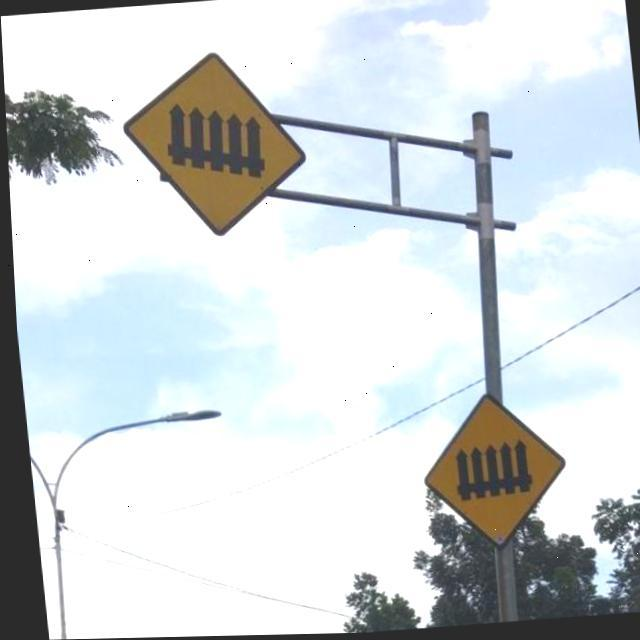Peringatan Perlintasan Kereta Api: (119, 50, 307, 241)
